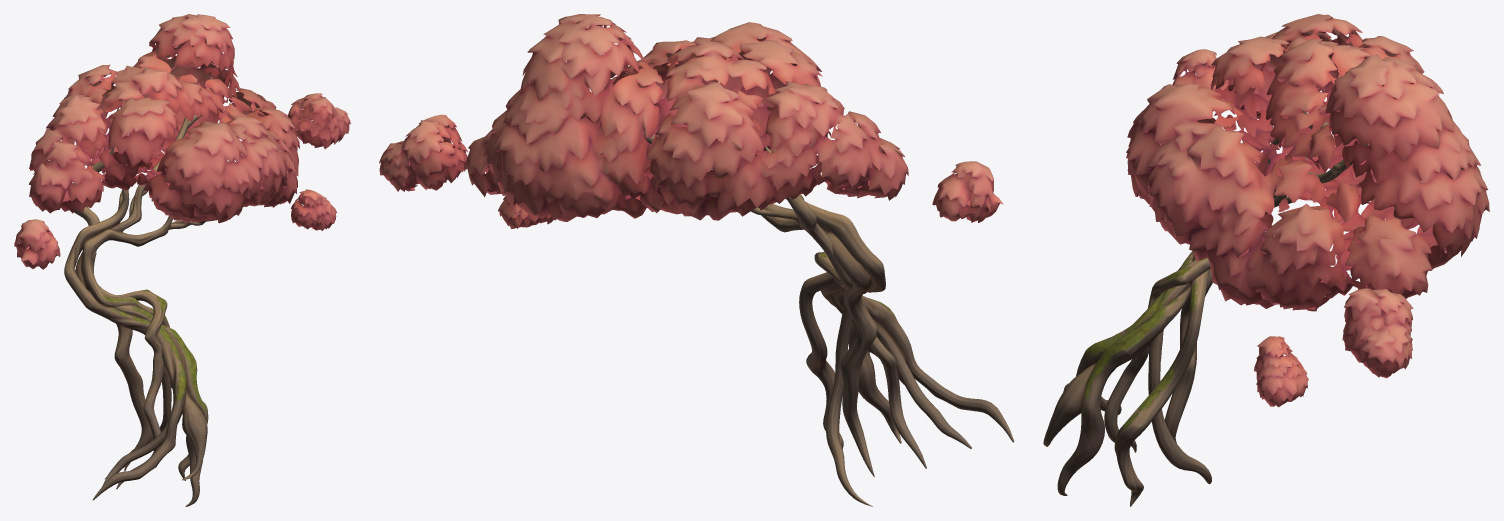
The model's file is sky_tree_02b.glb.
3 views of the same model, side by side, from view 1: azimuth 30°, elevation 25°; view 2: azimuth 150°, elevation 25°; view 3: azimuth 270°, elevation 25° (orthographic). The views are drawn at different scales.
Parts seen in each view (by area): view 1: tree_02b; view 2: tree_02b; view 3: tree_02b.
Boxes of the visible parts, left/top/right/bottom form: tree_02b: left=14, top=14, right=350, bottom=506; tree_02b: left=379, top=14, right=1014, bottom=506; tree_02b: left=1043, top=14, right=1489, bottom=506.
Bounding box in the file's own units: 12.81 × 11.59 × 9.03.
Materials: 2 (2 with a texture image).
